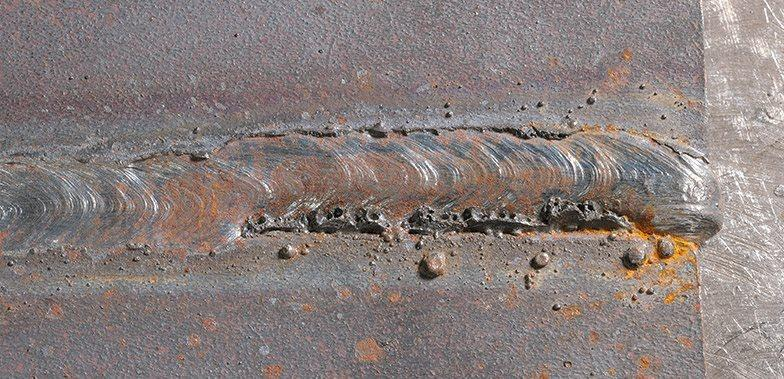porosity: (233, 208, 647, 246)
slag: (133, 126, 784, 206)
